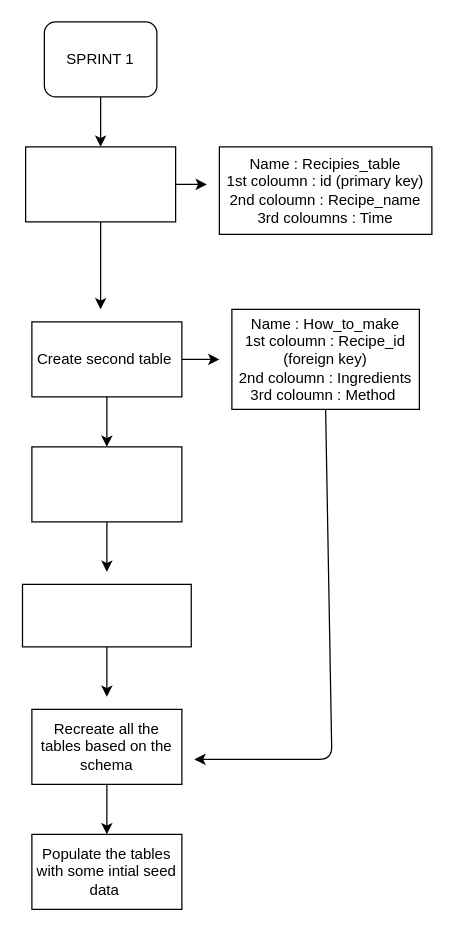
Image size: 454x931. Some labels were removed from this diagram. Each missing label, with the box of its shape:
Create first table: (24, 146, 176, 222)
Drop any existing tables (if they exist): (21, 583, 191, 647)
Write a database initialisation script. Create a SQL script that will:: (31, 446, 182, 522)
